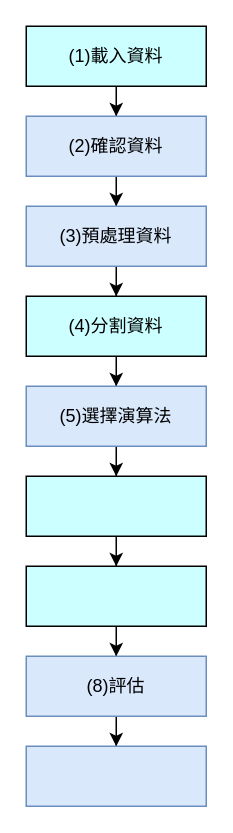
The diagram is 233 pixels wide and 833 high, and some of its shapes have lost their labels. The shapes that lost their labels are listed below. From the top down, each one's box as (x1, y1, x2, y2) in pixels, then its label:
(25, 475, 206, 536): (6)訓練
(25, 565, 206, 626): (7)預測
(25, 745, 206, 806): (9)調整
